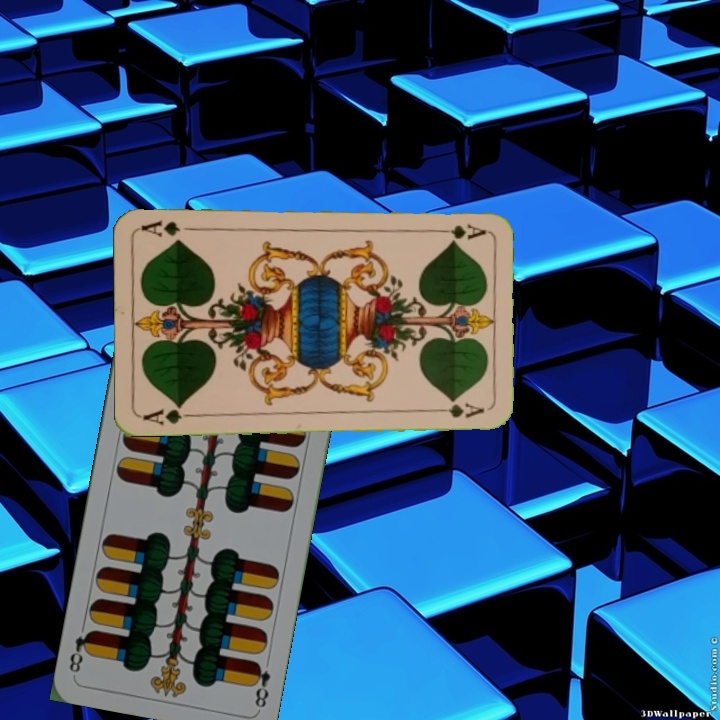E8: (248, 657, 273, 711)
GA: (139, 400, 198, 428), (428, 219, 487, 240)
